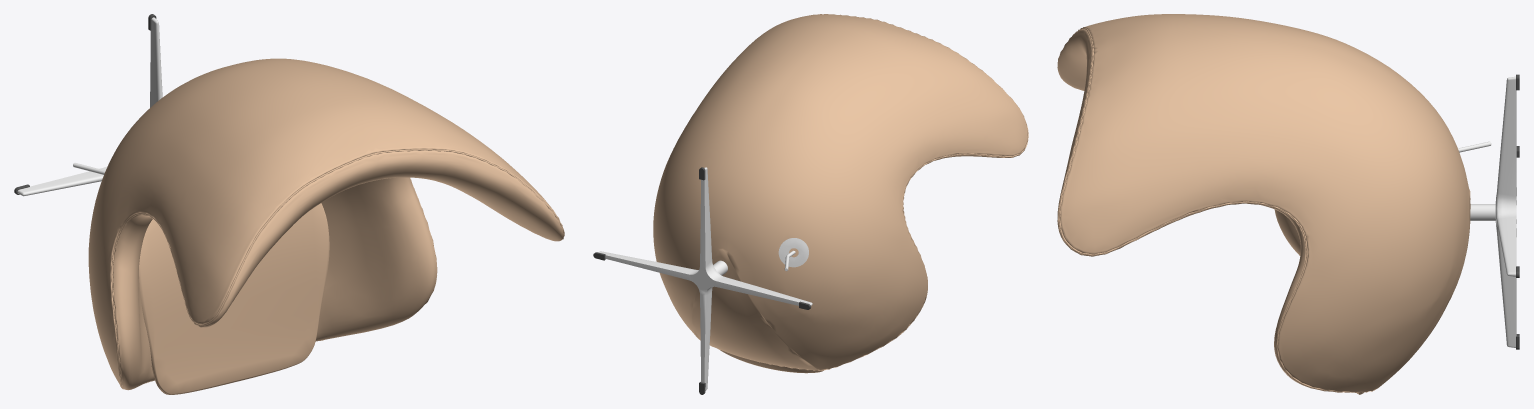
The model's file is EGG_3316.glb.
3 views of the same model, side by side, from view 1: azimuth 30°, elevation 25°; view 2: azimuth 150°, elevation 25°; view 3: azimuth 270°, elevation 25° (orthographic). The views are drawn at different scales.
Parts seen in each view (by area): view 1: Node1; view 2: Node1; view 3: Node1.
Boxes of the visible parts, x1,y1,x2,y2 form: Node1: [14, 14, 564, 394]; Node1: [593, 14, 1028, 394]; Node1: [1057, 14, 1519, 394].
Bounding box in the file's own units: 898 × 840 × 1040.
